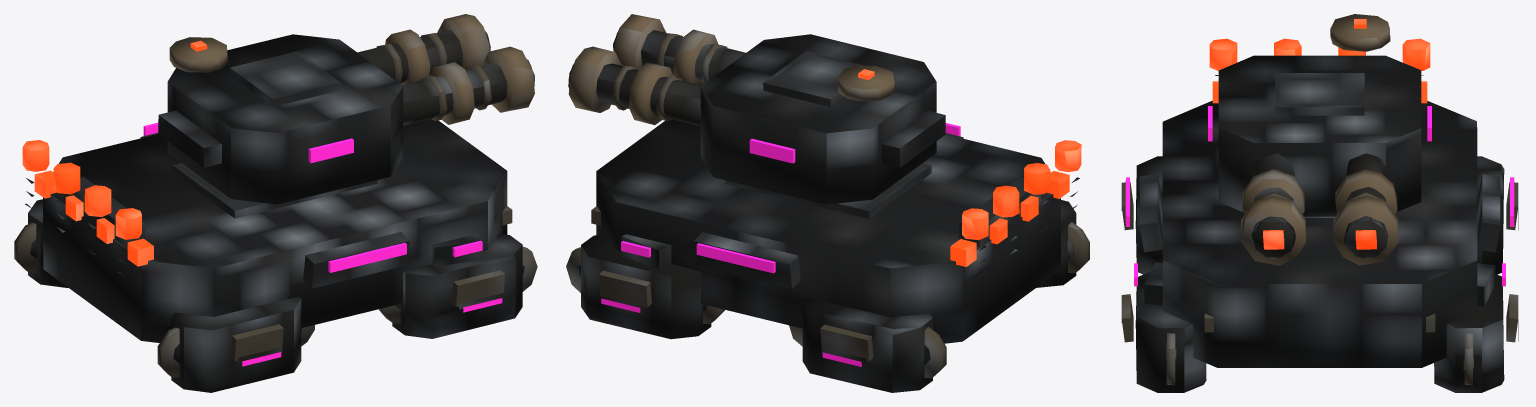
The model's file is devastator.glb.
The picture shows the model from 3 angles, left to right: view 1: azimuth 30°, elevation 25°; view 2: azimuth 150°, elevation 25°; view 3: azimuth 270°, elevation 25°; orthographic projection. The views are drawn at different scales.
Visible parts, largest first — view 1: Sandwar3D; view 2: Sandwar3D; view 3: Sandwar3D.
Part boxes in pixels (bbox=[...]): Sandwar3D: bbox=[14, 14, 537, 392]; Sandwar3D: bbox=[566, 14, 1089, 392]; Sandwar3D: bbox=[1121, 14, 1518, 392].
Bounding box in the file's own units: 2.59 × 1.41 × 2.01.
Materials: 10 (9 with a texture image).
